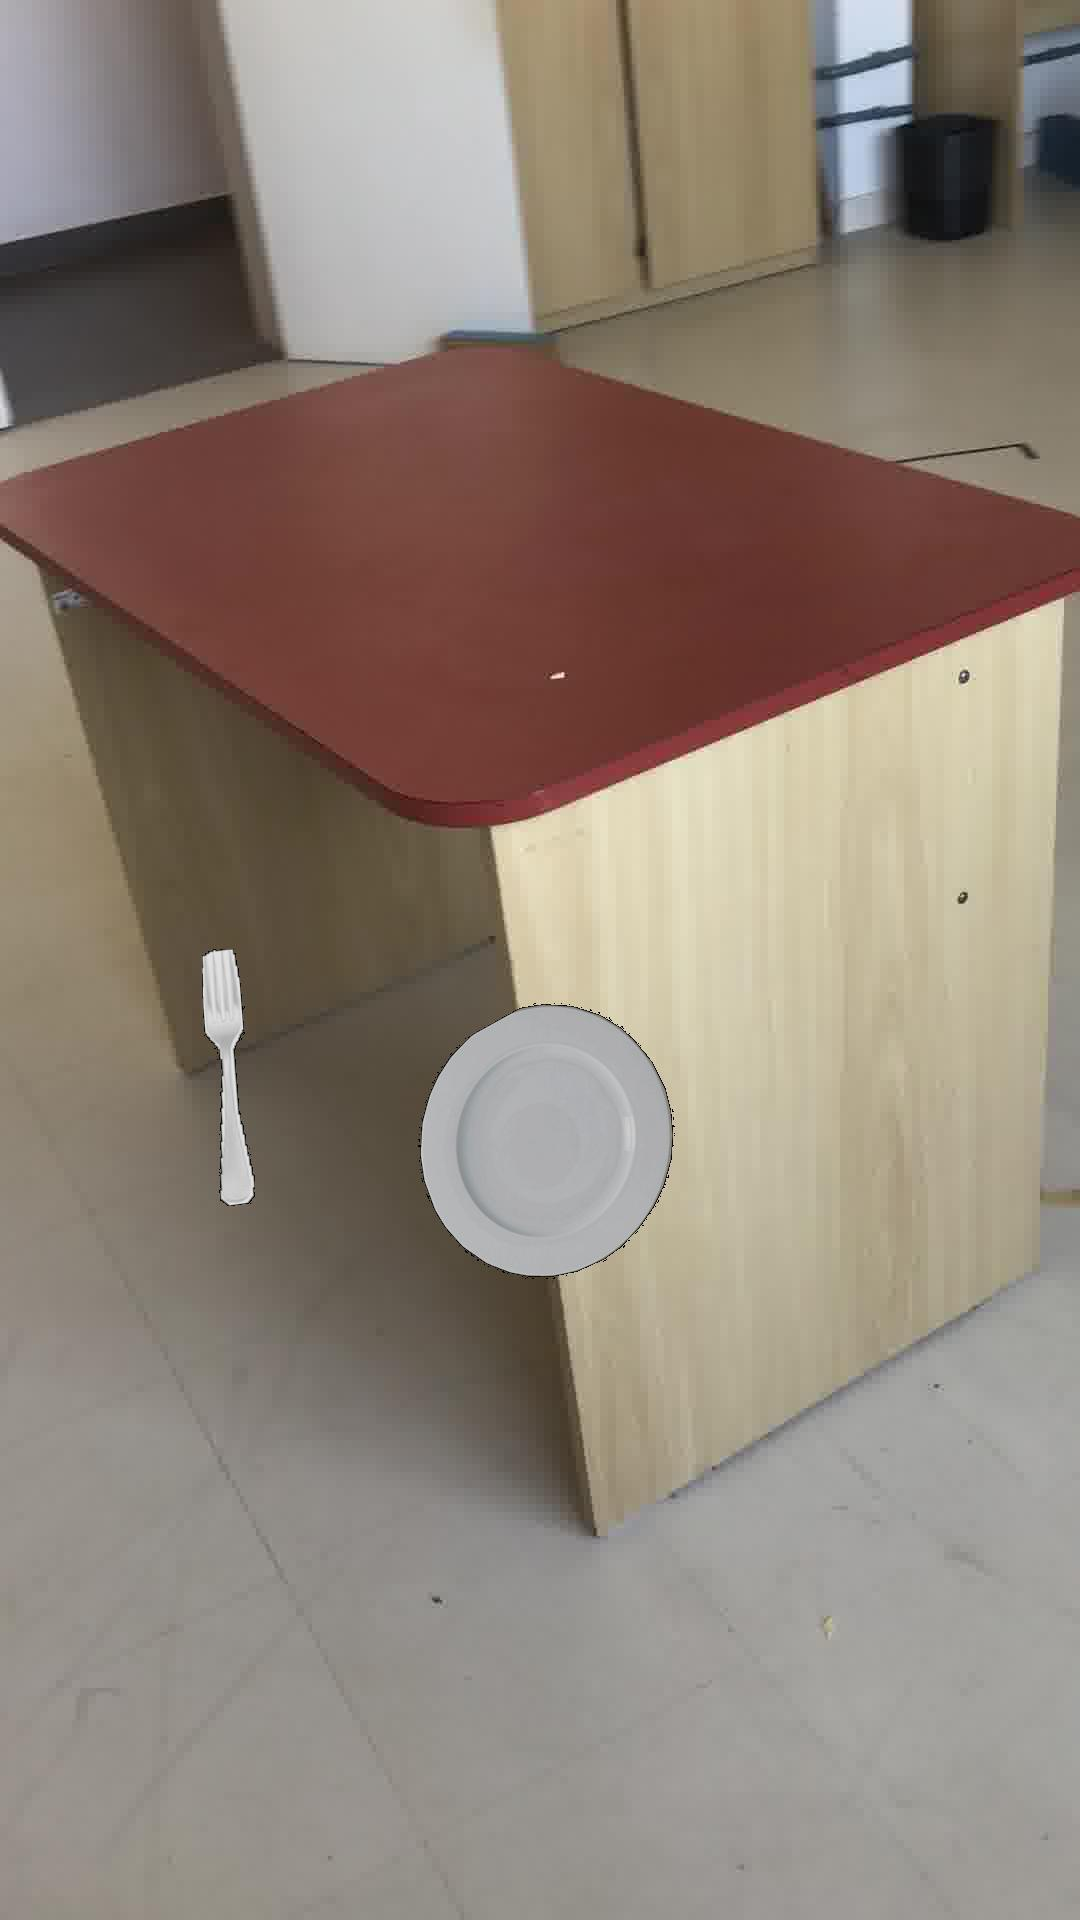fork: (200, 948, 253, 1204)
plate: (417, 1002, 674, 1275)
